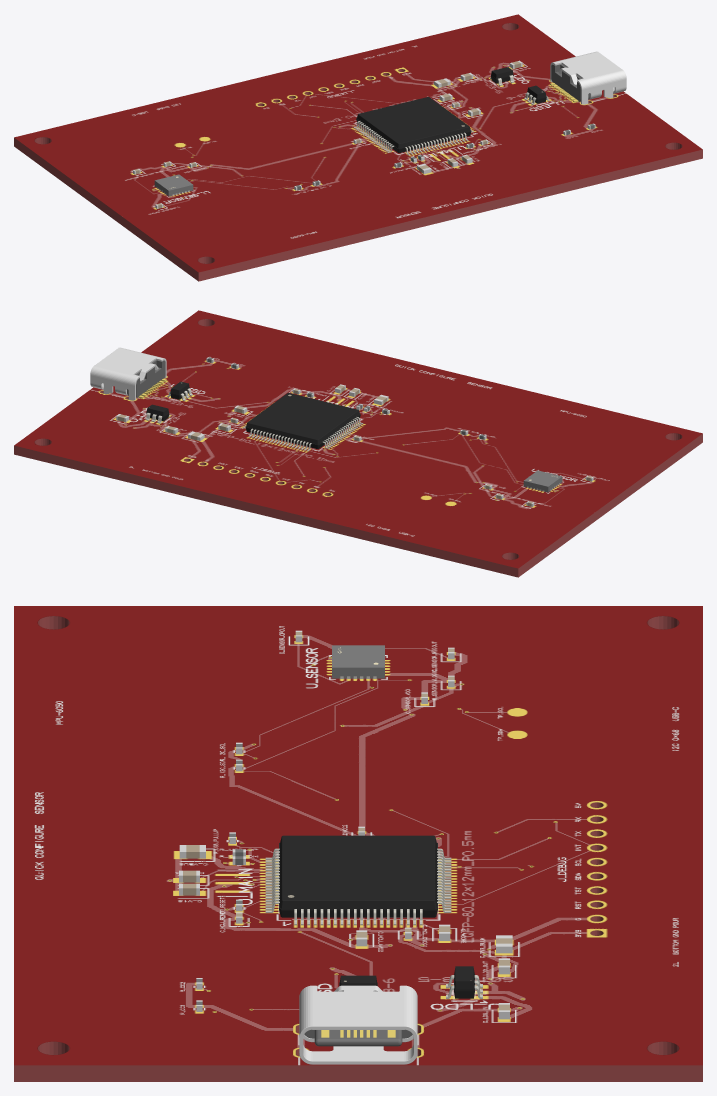
3 views of the same model, one above another, from view 1: azimuth 30°, elevation 25°; view 2: azimuth 150°, elevation 25°; view 3: azimuth 270°, elevation 25° (orthographic). The views are drawn at different scales.
Visible parts, largest first — view 1: Box0, U_MAIN, J_USB, U_SENSOR; view 2: Box0, U_MAIN, J_USB, U_SENSOR; view 3: Box0, U_MAIN, J_USB, U_SENSOR, U_LDO.
Part boxes in pixels (x1=…): Box0: x1=14, y1=14, x2=702, y2=281; U_MAIN: x1=353, y1=97, x2=473, y2=155; J_USB: x1=550, y1=51, x2=626, y2=104; U_SENSOR: x1=154, y1=174, x2=193, y2=196; Box0: x1=14, y1=310, x2=702, y2=577; U_MAIN: x1=243, y1=393, x2=363, y2=451; J_USB: x1=90, y1=347, x2=166, y2=400; U_SENSOR: x1=523, y1=470, x2=562, y2=492; Box0: x1=14, y1=606, x2=702, y2=1081; U_MAIN: x1=265, y1=835, x2=451, y2=925; J_USB: x1=299, y1=985, x2=417, y2=1064; U_SENSOR: x1=332, y1=645, x2=384, y2=678; U_LDO: x1=446, y1=966, x2=482, y2=998.
Size of the model in its own units: 82.04 by 4.65 by 52.
15 materials, 2 textured.
